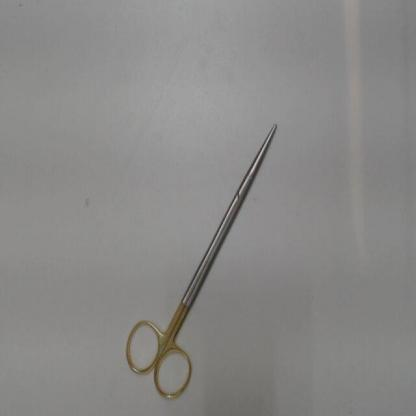7 Metzenbaum Scissors: (120, 116, 283, 406)
